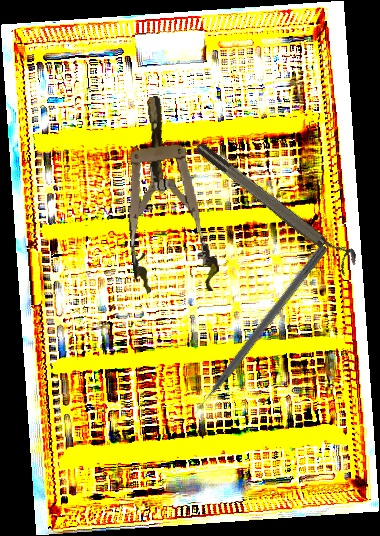Fixation Ring: (192, 132, 362, 277)
Pusher: (185, 242, 329, 422)
Speculum: (112, 91, 222, 300)
